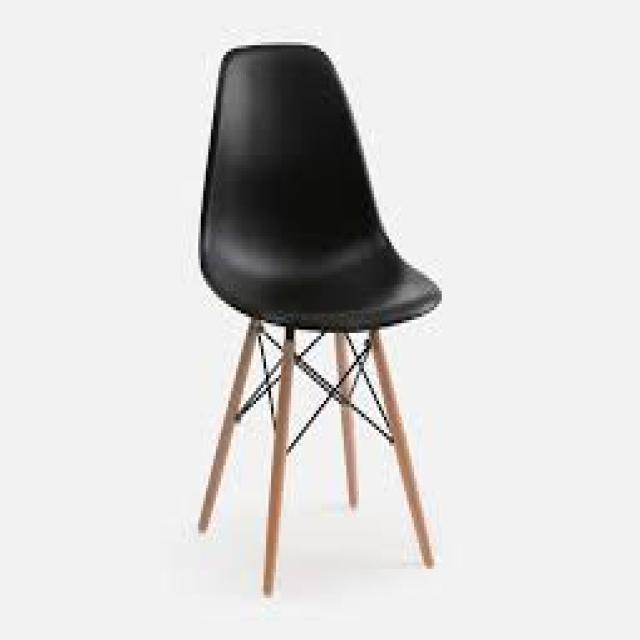chair: (138, 6, 474, 640)
